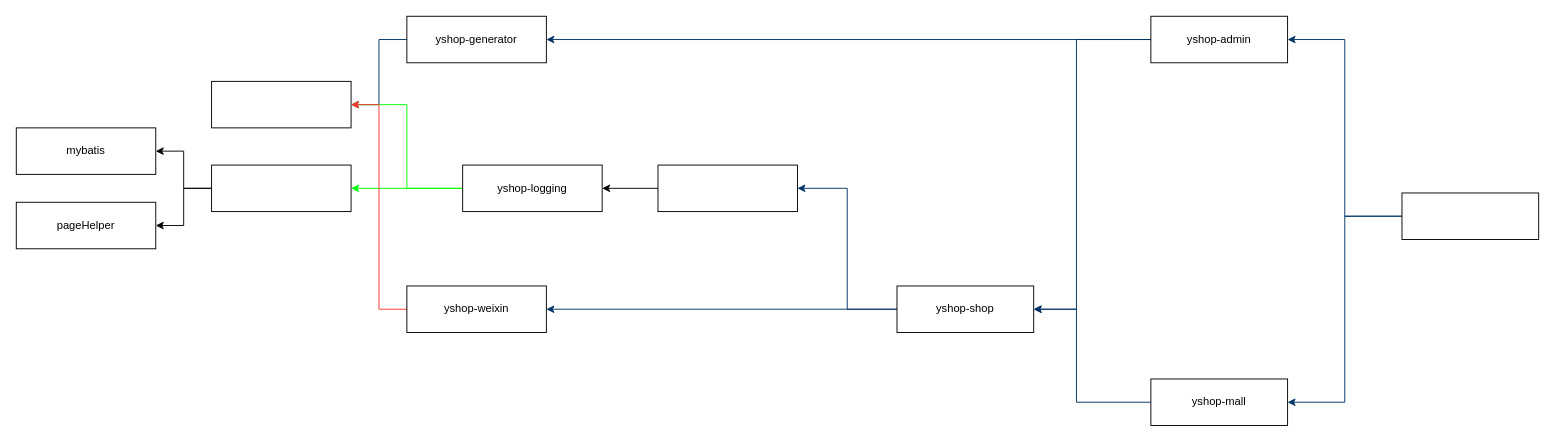
Some shapes in this 1555 by 442 pixel diagram are drawn without their labels. Each missing label, with the box of its shape:
yshop-bootstrap: (1401, 192, 1539, 239)
yshop-common: (211, 80, 351, 128)
yshop-mproot: (211, 164, 351, 212)
yshop-tools: (657, 164, 797, 212)
